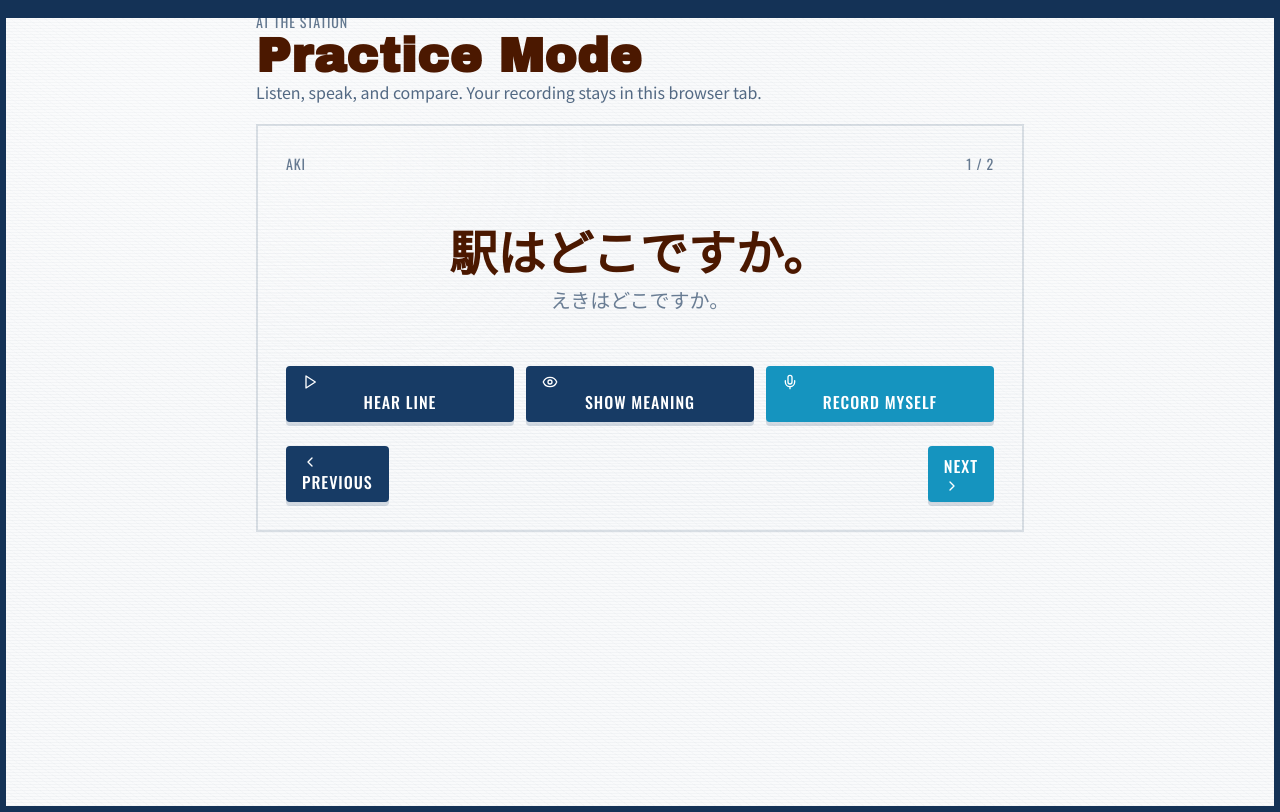
PracticePage › loads the selected episode and reveals translations on demand
Expected: the text "駅はどこですか。" is shown, [449,215,831,285]
Expected: the text "Where is the station?" is not shown
Click the button "Show meaning". click: x=640, y=394
box: [526,366,754,422]
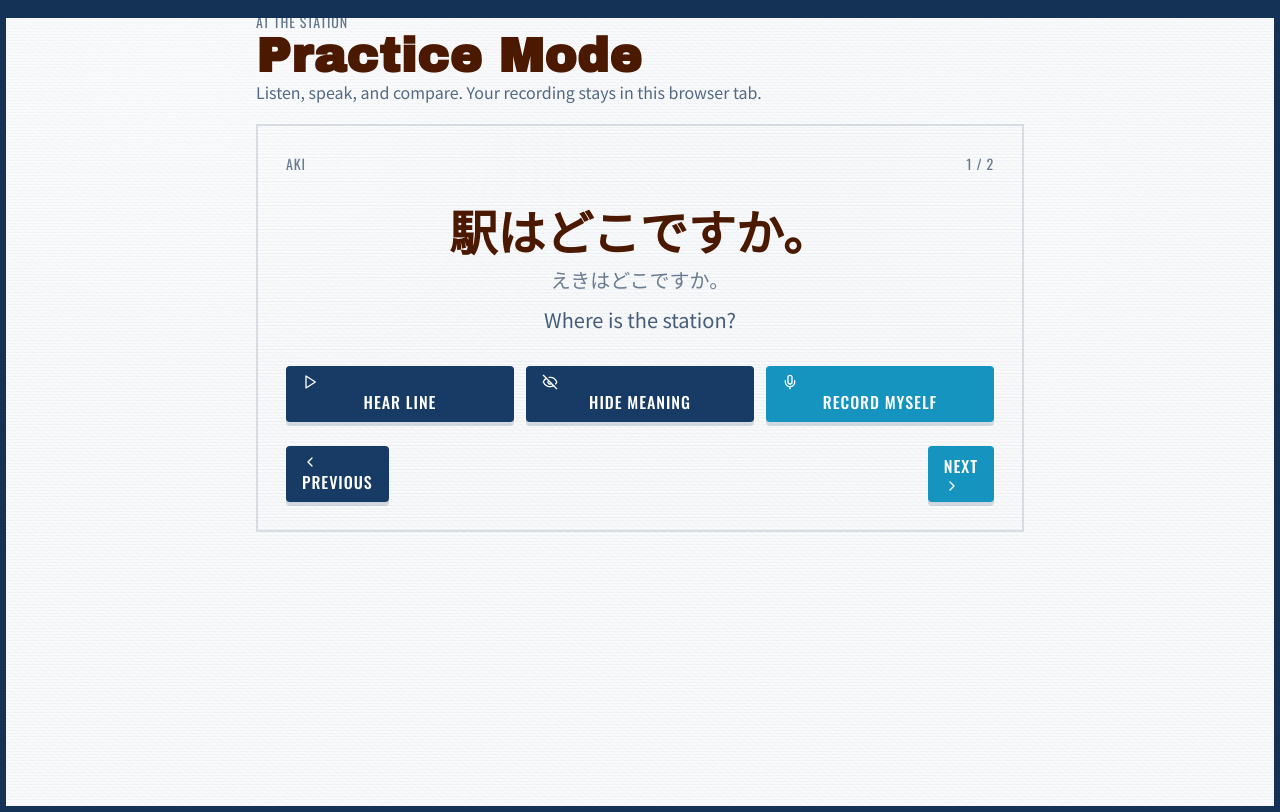
Result: the text "Where is the station?" is shown at [544,305,736,334]
